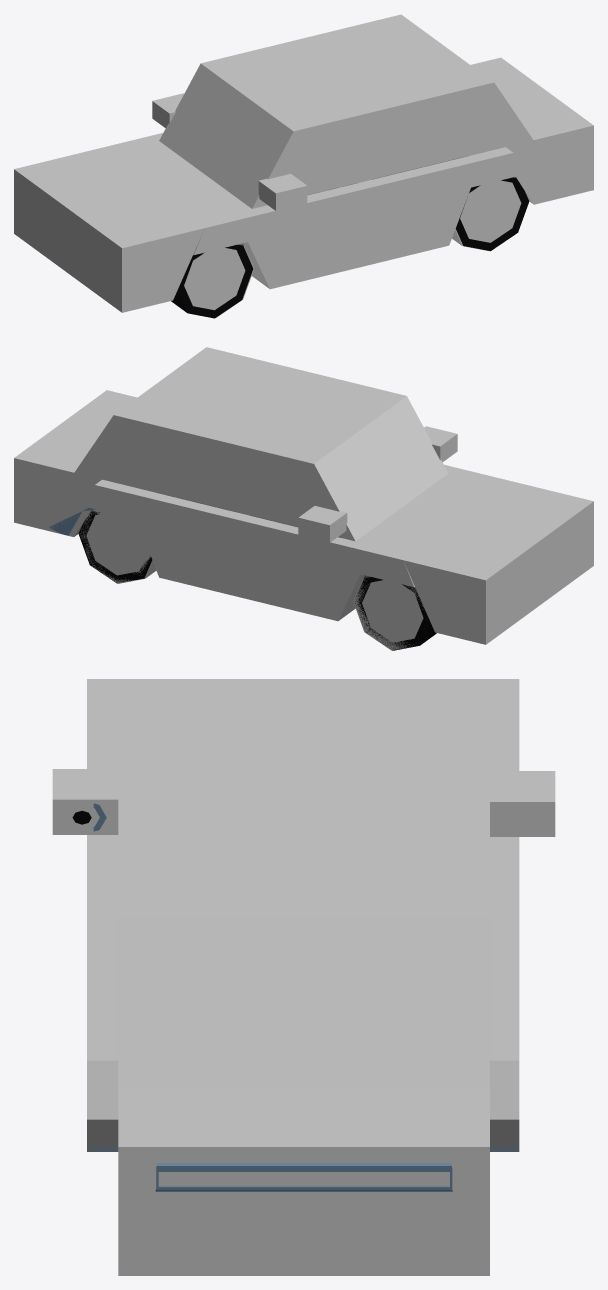
File: SM_Car_06.fbx
The picture shows the model from 3 angles, top to bottom: view 1: azimuth 30°, elevation 25°; view 2: azimuth 150°, elevation 25°; view 3: azimuth 270°, elevation 25°; orthographic projection. The views are drawn at different scales.
Visible parts, largest first — view 1: SM_Car_06_ConvexHulls, SM_Car_06; view 2: SM_Car_06_ConvexHulls, SM_Car_06; view 3: SM_Car_06_ConvexHulls, SM_Car_06.
Boxes of the visible parts, x1=… form: SM_Car_06_ConvexHulls: x1=14, y1=14, x2=593, y2=317; SM_Car_06: x1=171, y1=156, x2=529, y2=318; SM_Car_06_ConvexHulls: x1=14, y1=347, x2=593, y2=650; SM_Car_06: x1=49, y1=493, x2=436, y2=650; SM_Car_06_ConvexHulls: x1=52, y1=679, x2=555, y2=1275; SM_Car_06: x1=72, y1=803, x2=517, y2=1191.
Size of the model in its own units: 476 by 216 by 159.
2 materials, 1 textured.
